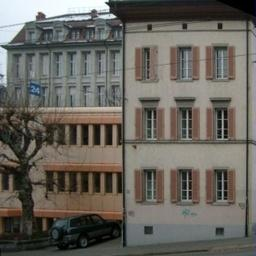building: (118, 0, 256, 256), (0, 12, 121, 229)
